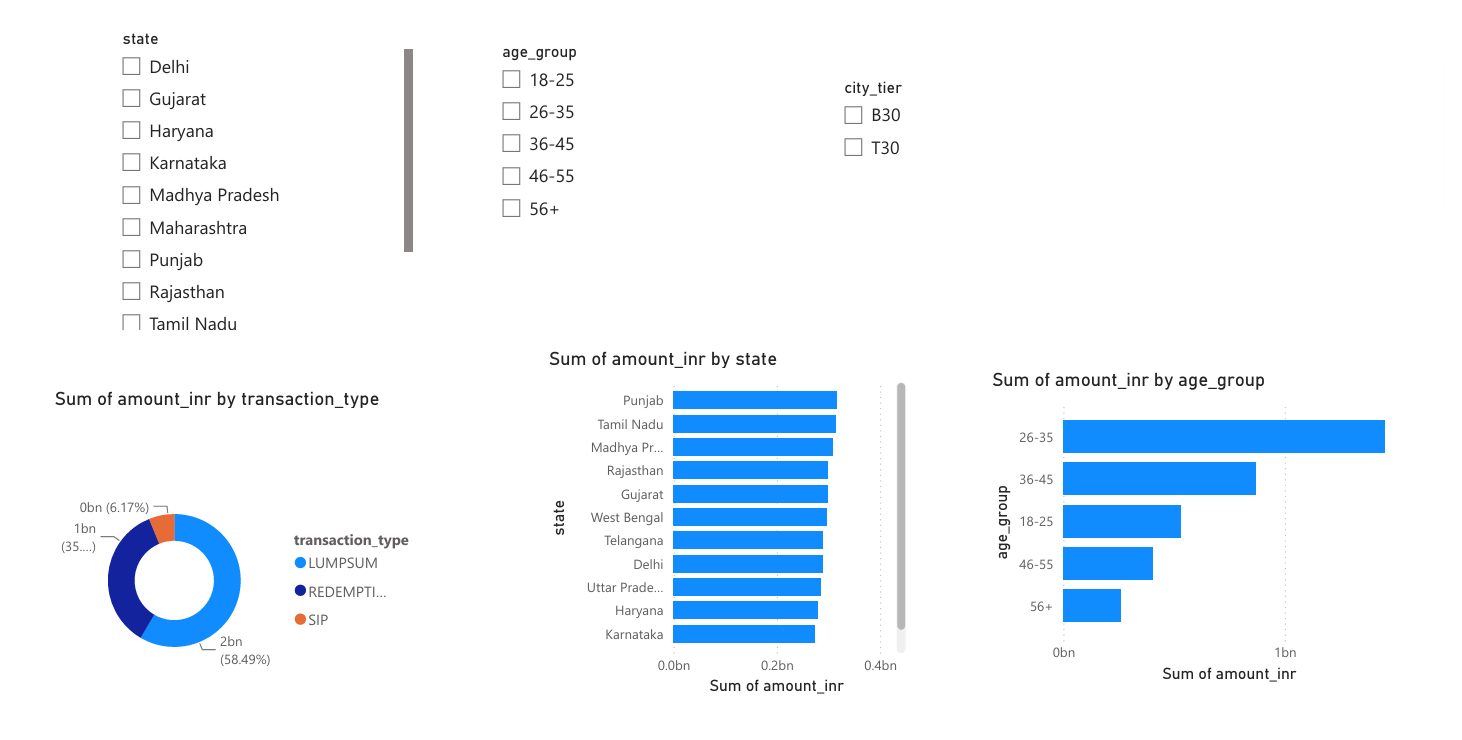

This screenshot's page, from the dashboard's own definition file:
{"tool":"powerbi","page":{"name":"Investor Analytics","canvas":[1280,720],"ordinal":2},"visuals":[{"type":"clusteredBarChart","fields":{"Category":["investor_transactions_clean.state"],"Y":["Sum(investor_transactions_clean.amount_inr)"]},"box":[469.4,290.7,330.1,318],"z":0},{"type":"donutChart","fields":{"Category":["investor_transactions_clean.transaction_type"],"Y":["Sum(investor_transactions_clean.amount_inr)"]},"box":[24.2,327.1,333.1,330.1],"z":1},{"type":"slicer","fields":{"Values":["investor_transactions_clean.state"]},"box":[77.2,0,280.1,280.1],"z":3},{"type":"slicer","fields":{"Values":["investor_transactions_clean.age_group"]},"box":[419.4,12.1,280.1,193.8],"z":4},{"type":"slicer","fields":{"Values":["investor_transactions_clean.city_tier"]},"box":[726.8,43.9,280.1,149.9],"z":5},{"type":"clusteredBarChart","fields":{"Category":["investor_transactions_clean.age_group"],"Y":["Sum(investor_transactions_clean.amount_inr)"]},"box":[867.6,310.4,384.6,287.7],"z":6}]}

Visuals, with their boxes on the page's 1280x720 design canvas (x1, y1, x2, y2). These are canvas units, not pixel positions in the 1462x740 screenshot, which may show the page scaled, cropped or inside an application window:
clusteredBarChart - investor_transactions_clean.state x Sum(investor_transactions_clean.amount_inr): (left=469, top=291, right=800, bottom=609)
donutChart - investor_transactions_clean.transaction_type x Sum(investor_transactions_clean.amount_inr): (left=24, top=327, right=357, bottom=657)
slicer - investor_transactions_clean.state: (left=77, top=0, right=357, bottom=280)
slicer - investor_transactions_clean.age_group: (left=419, top=12, right=700, bottom=206)
slicer - investor_transactions_clean.city_tier: (left=727, top=44, right=1007, bottom=194)
clusteredBarChart - investor_transactions_clean.age_group x Sum(investor_transactions_clean.amount_inr): (left=868, top=310, right=1252, bottom=598)
